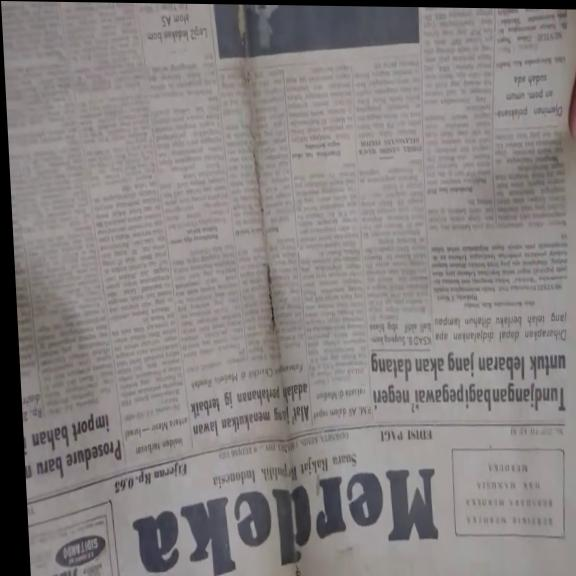Kertas: (255, 6, 576, 576), (27, 414, 576, 576)
